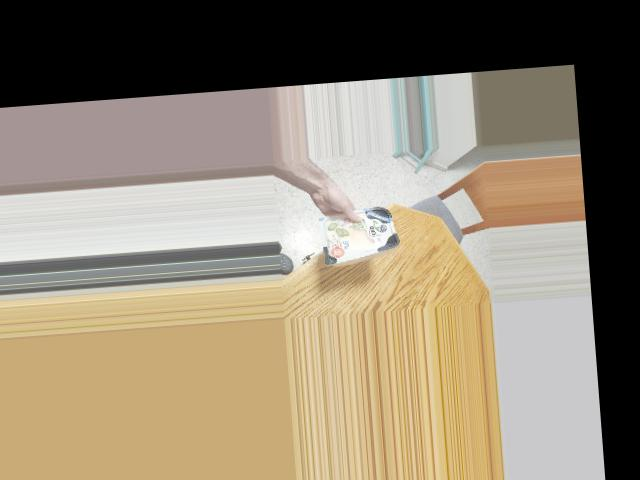cheese: (313, 191, 399, 270)
